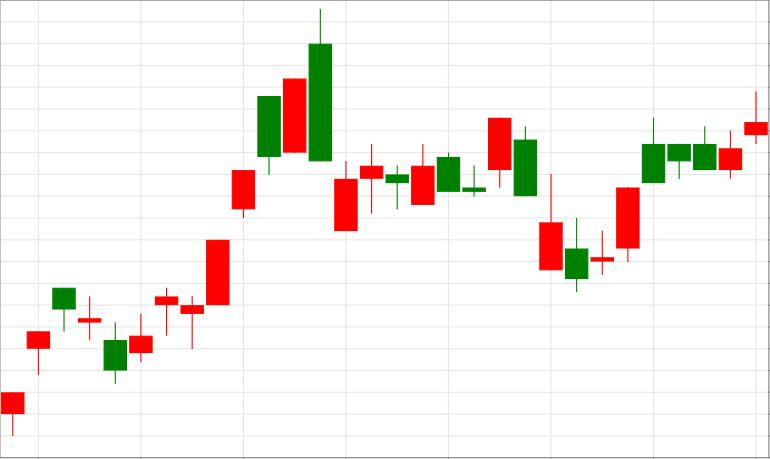bearish_engulfing_fall: (181, 8, 332, 349)
